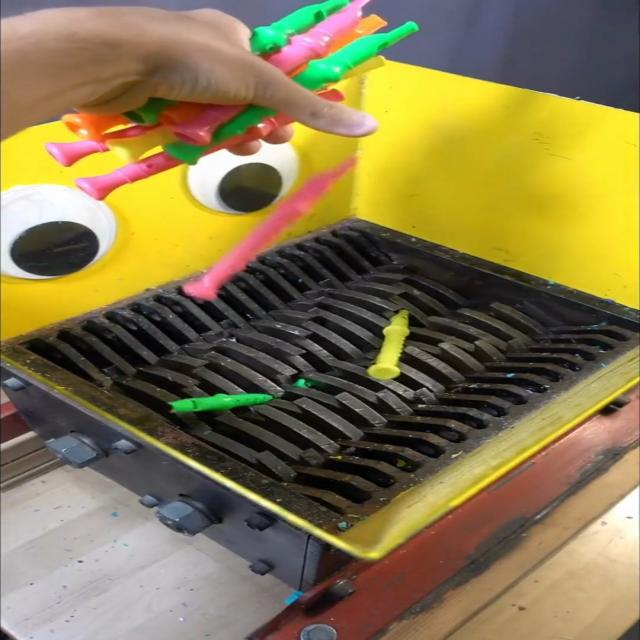Broyeur: (0, 214, 640, 540)
